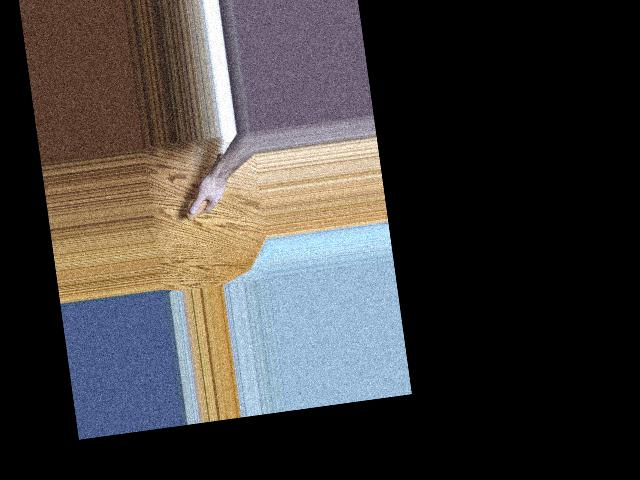sweet_potato: (177, 149, 236, 221)
